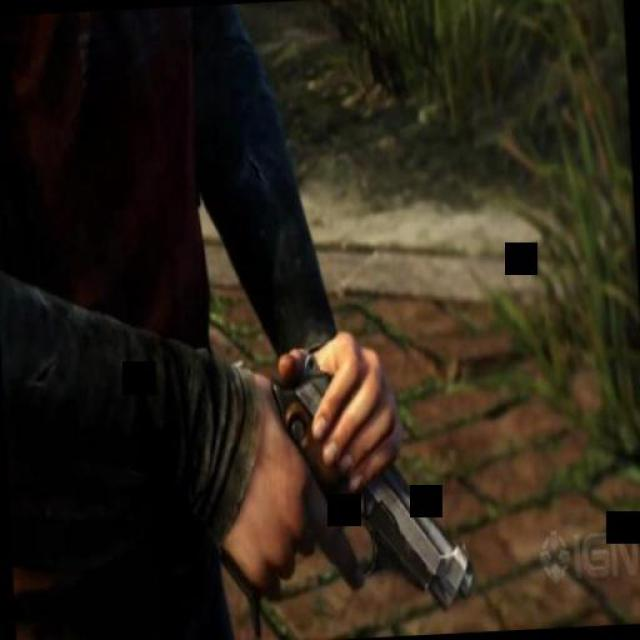gun: (165, 321, 477, 629)
